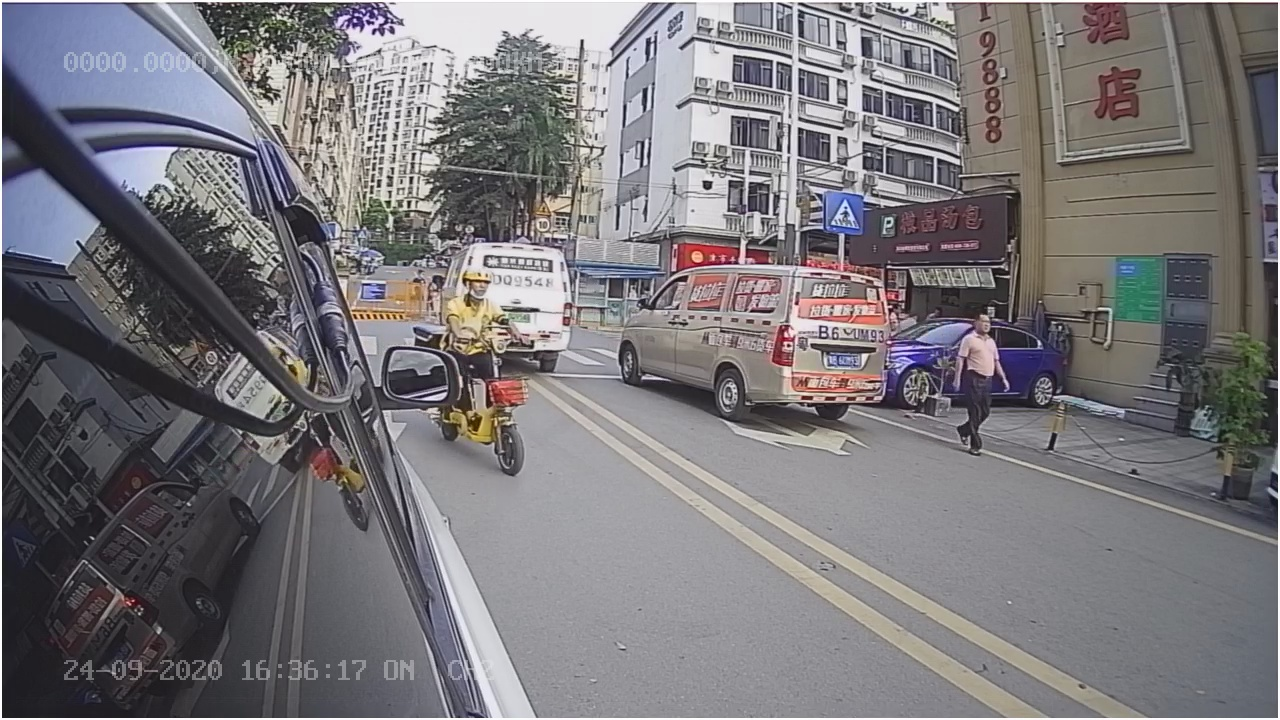person: (926, 307, 1031, 460)
